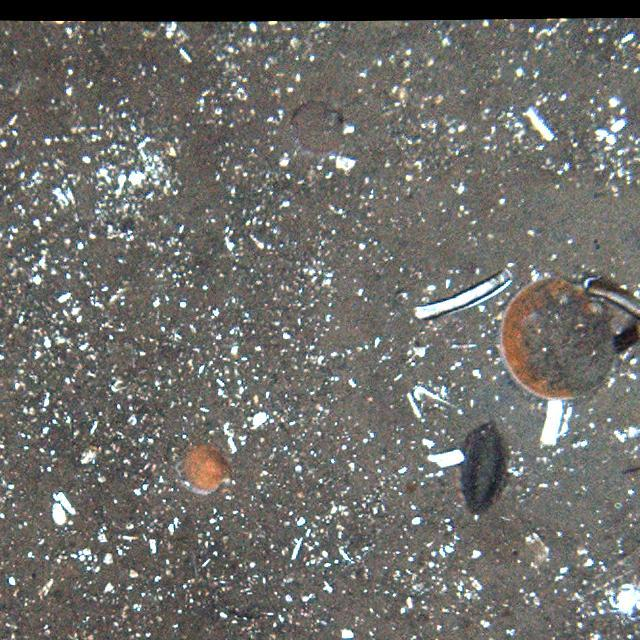scallop: (492, 281, 614, 400)
